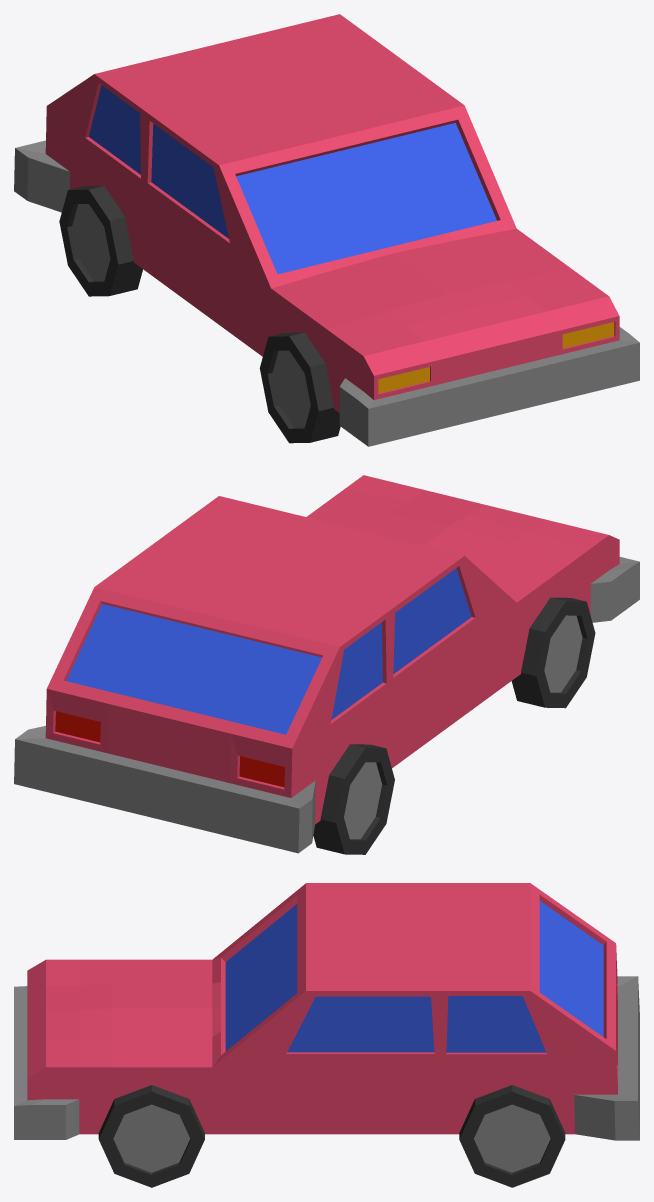
The model's file is CarDES.fbx.
3 renders of one model, top to bottom at view 1: azimuth 30°, elevation 25°; view 2: azimuth 150°, elevation 25°; view 3: azimuth 270°, elevation 25°, orthographic. The views are drawn at different scales.
Parts seen in each view (by area): view 1: Car; view 2: Car; view 3: Car.
Part boxes in pixels (x1=…): Car: x1=14, y1=14, x2=639, y2=446; Car: x1=14, y1=475, x2=639, y2=854; Car: x1=14, y1=883, x2=639, y2=1187.
Bounding box in the file's own units: 186 × 132 × 393.
